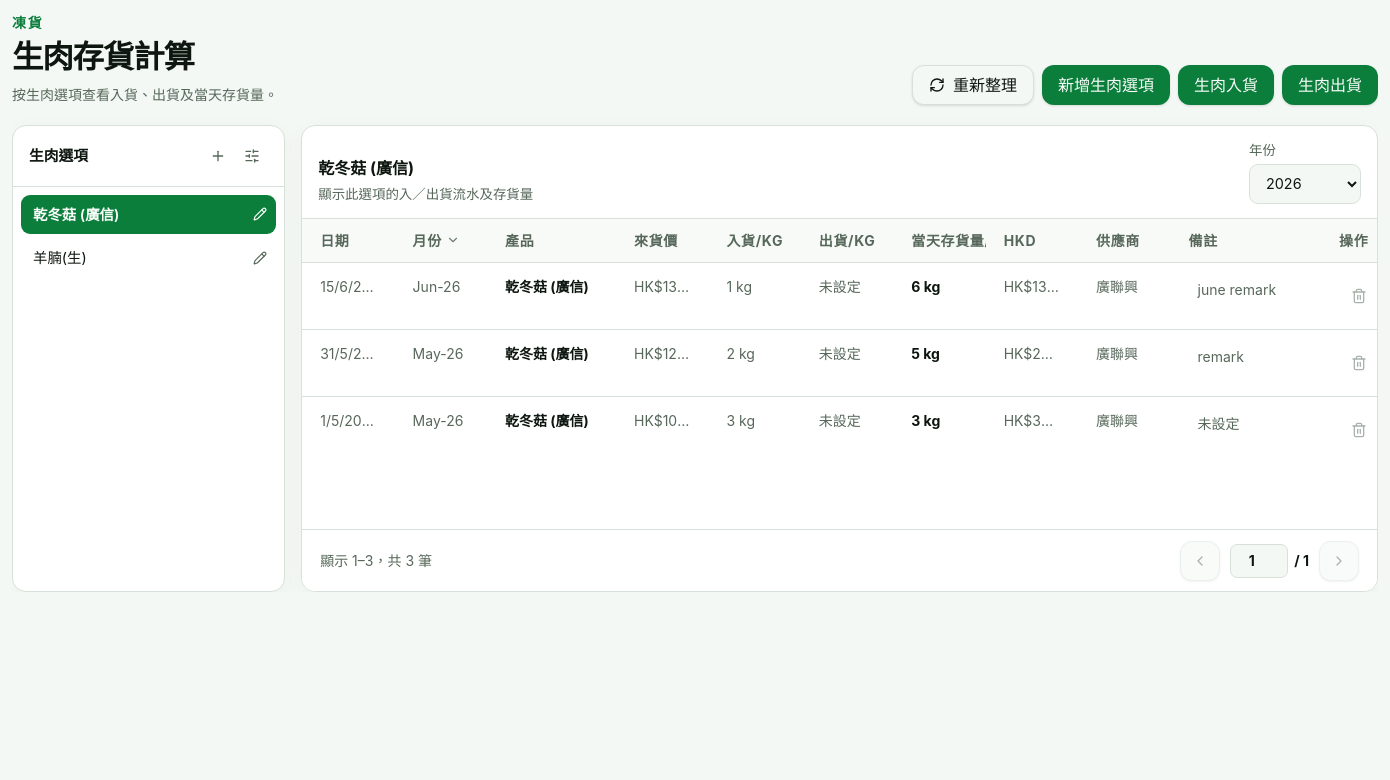
Test: Raw meat inventory calculation page › filters the ledger when a concrete month is selected
Expected: the button "june remark" is shown, [1188, 276, 1303, 305]
Expected: the button "remark" is shown, [1188, 343, 1303, 372]
Click the button with aria-label "篩選月份" at (436, 240), box [413, 230, 460, 251]
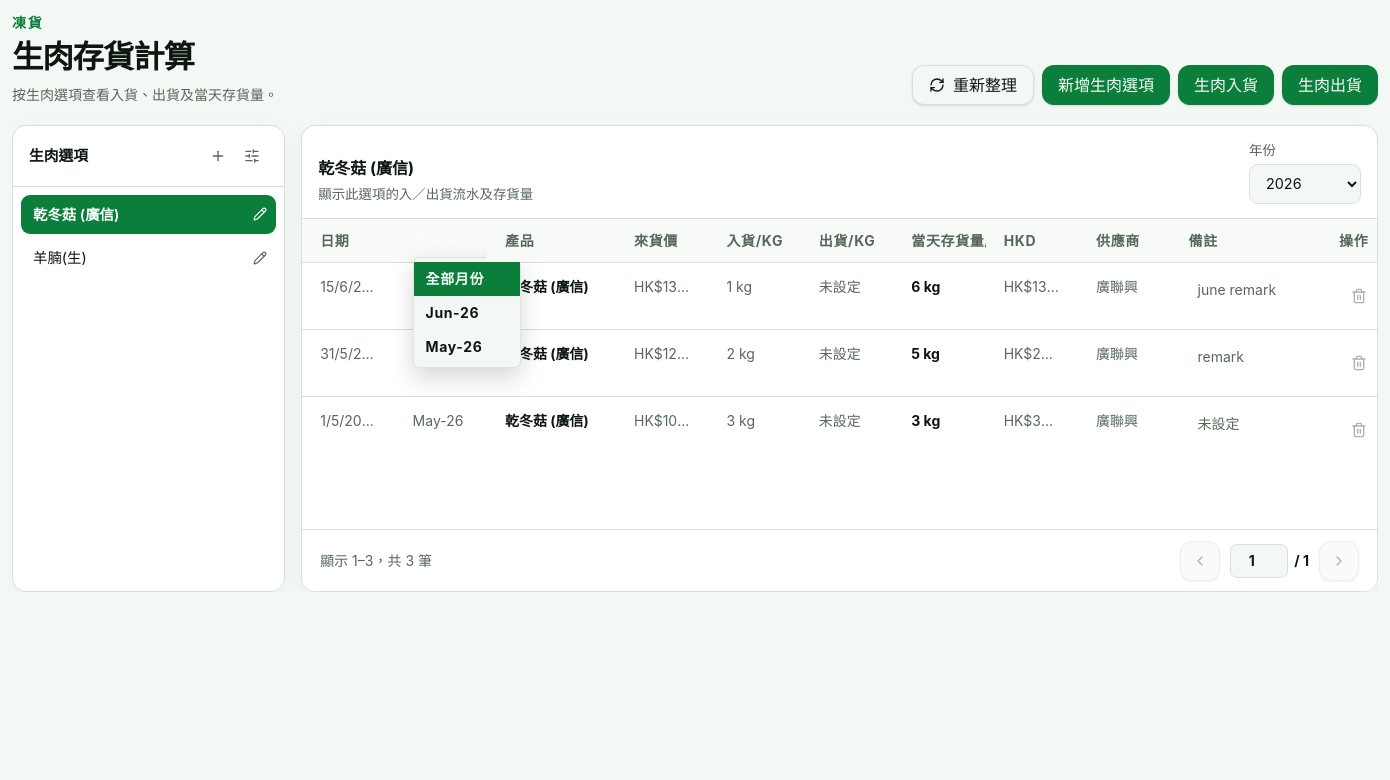
Now the option "全部月份" is shown, box [414, 262, 520, 296]
Click the option "Jun-26" at (467, 312), box [414, 296, 520, 329]
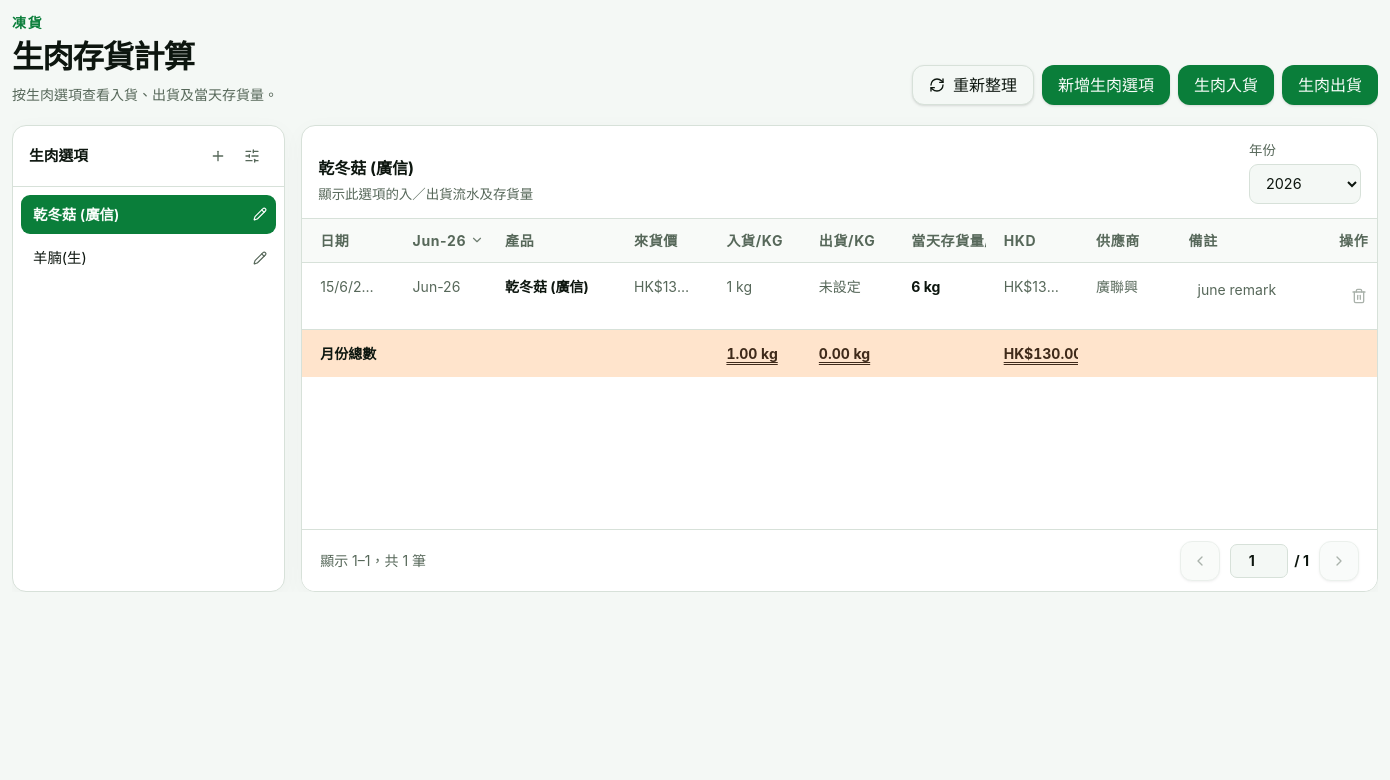
Now the button with aria-label "篩選月份" reads "Jun-26", box [413, 230, 484, 251]
Now the text "月份總數" is shown, box [320, 345, 376, 362]
Now the text "1.00 kg" is shown, box [726, 343, 778, 364]
